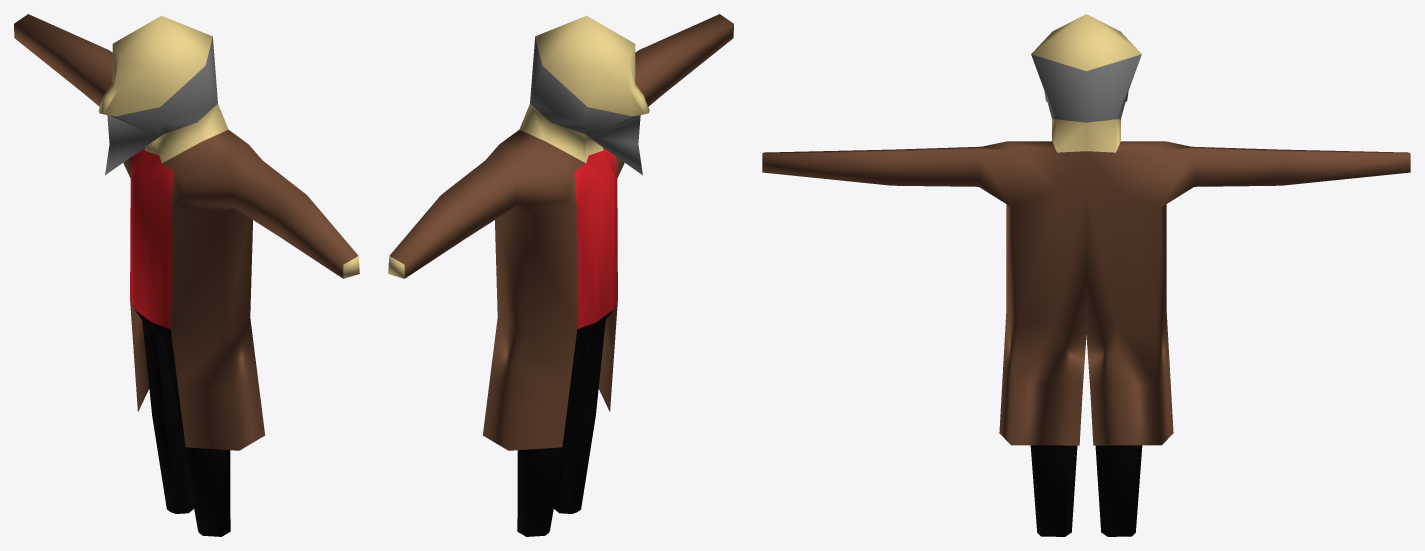
The model's file is ondlmane.fbx.
3 views of the same model, side by side, from view 1: azimuth 30°, elevation 25°; view 2: azimuth 150°, elevation 25°; view 3: azimuth 270°, elevation 25° (orthographic).
Parts seen in each view (by area): view 1: Icosphere; view 2: Icosphere; view 3: Icosphere.
Part boxes in pixels (box(x1,y1,x2,y2)): Icosphere: box(14, 14, 359, 536); Icosphere: box(388, 14, 733, 536); Icosphere: box(762, 14, 1410, 536).
Bounding box in the file's own units: 222 × 852 × 995.
